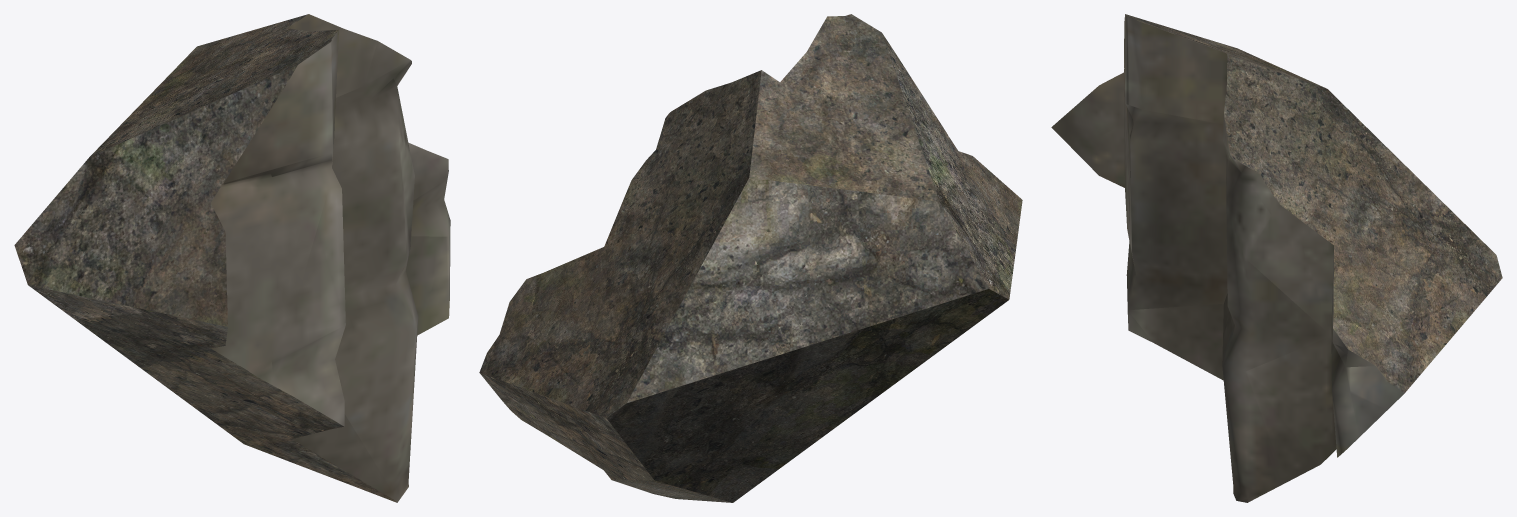
File: ColumnDamage08_48.fbx
3 views of the same model, side by side, from view 1: azimuth 30°, elevation 25°; view 2: azimuth 150°, elevation 25°; view 3: azimuth 270°, elevation 25° (orthographic). The views are drawn at different scales.
Visible parts, largest first — view 1: ColumnDamage08_DM.048; view 2: ColumnDamage08_DM.048; view 3: ColumnDamage08_DM.048.
Part boxes in pixels (left/top/right/bottom): ColumnDamage08_DM.048: left=14, top=14, right=450, bottom=502; ColumnDamage08_DM.048: left=479, top=14, right=1022, bottom=502; ColumnDamage08_DM.048: left=1051, top=14, right=1502, bottom=502.
Bounding box in the file's own units: 140 × 145 × 137.
Materials: 2 (2 with a texture image).
